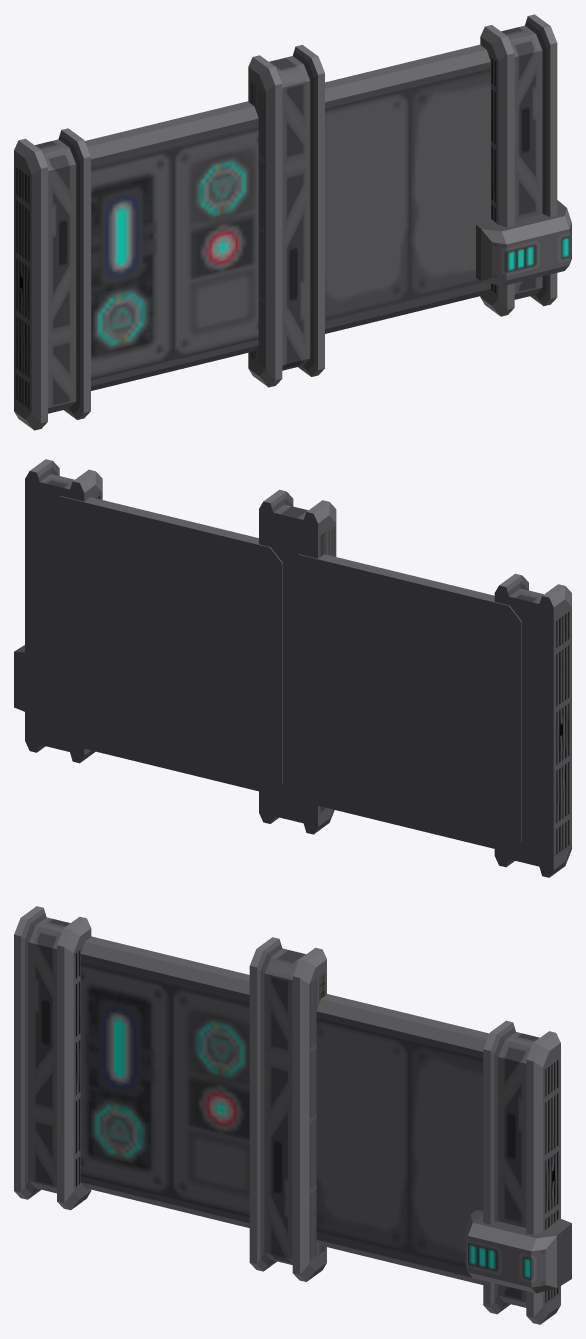
Rendered from SM_Prop_Greebles_12.fbx.
The picture shows the model from 3 angles, top to bottom: view 1: azimuth 30°, elevation 25°; view 2: azimuth 150°, elevation 25°; view 3: azimuth 330°, elevation 25°; orthographic projection.
Parts seen in each view (by area): view 1: SM_Prop_Greebles_12; view 2: SM_Prop_Greebles_12; view 3: SM_Prop_Greebles_12.
Boxes of the visible parts, x1,y1,x2,y2 form: SM_Prop_Greebles_12: [14, 14, 571, 430]; SM_Prop_Greebles_12: [14, 459, 571, 877]; SM_Prop_Greebles_12: [14, 906, 571, 1324].
Bounding box in the file's own units: 323 × 183 × 31.66.
